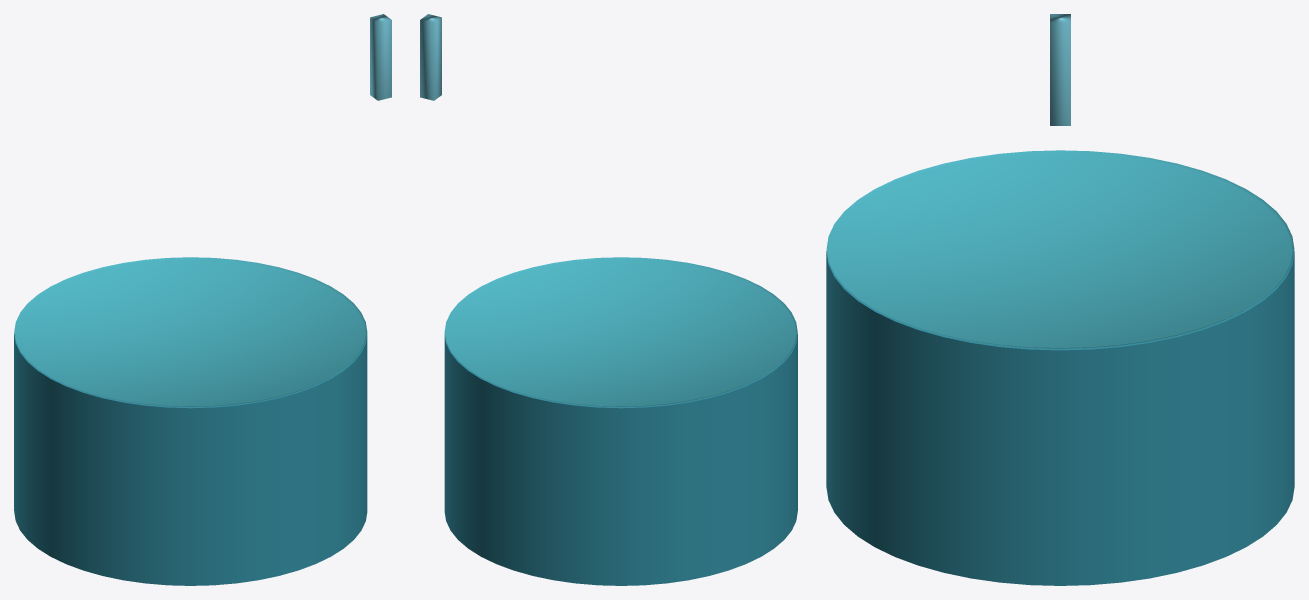
File: VLAB_liquid.fbx
The picture shows the model from 3 angles, left to right: view 1: azimuth 30°, elevation 25°; view 2: azimuth 150°, elevation 25°; view 3: azimuth 270°, elevation 25°; orthographic projection. The views are drawn at different scales.
Parts seen in each view (by area): view 1: VLAB_liquid_VolumeProxy_VIS, VLAB_liquid_Surface_VIS, VLAB_liquid_PourGuide_VIS; view 2: VLAB_liquid_VolumeProxy_VIS, VLAB_liquid_Surface_VIS, VLAB_liquid_PourGuide_VIS; view 3: VLAB_liquid_VolumeProxy_VIS, VLAB_liquid_Surface_VIS, VLAB_liquid_PourGuide_VIS.
Part boxes in pixels (x1,y1,x2,y2): VLAB_liquid_VolumeProxy_VIS: (14, 333, 367, 585); VLAB_liquid_Surface_VIS: (14, 257, 367, 407); VLAB_liquid_PourGuide_VIS: (370, 14, 391, 100); VLAB_liquid_VolumeProxy_VIS: (444, 333, 797, 585); VLAB_liquid_Surface_VIS: (444, 257, 797, 407); VLAB_liquid_PourGuide_VIS: (420, 14, 441, 100); VLAB_liquid_VolumeProxy_VIS: (826, 251, 1294, 585); VLAB_liquid_Surface_VIS: (826, 150, 1294, 348); VLAB_liquid_PourGuide_VIS: (1050, 14, 1070, 125).
Bounding box in the file's own units: 0.0755 × 0.092 × 0.066.
